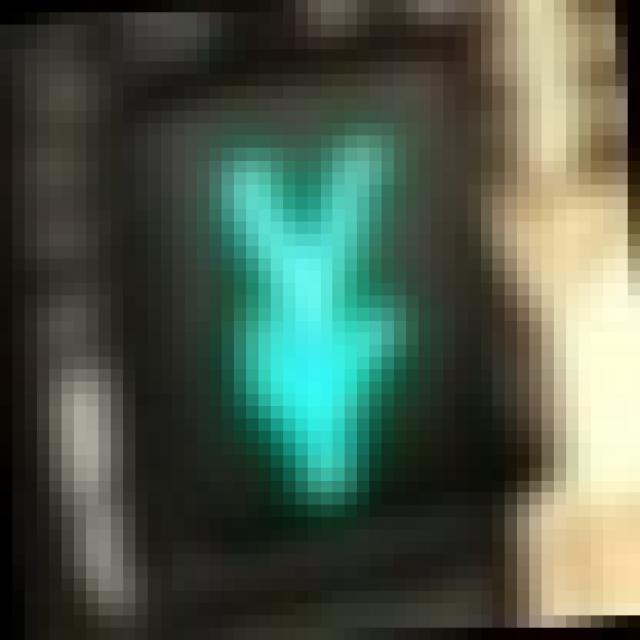green-light: (112, 75, 493, 531)
